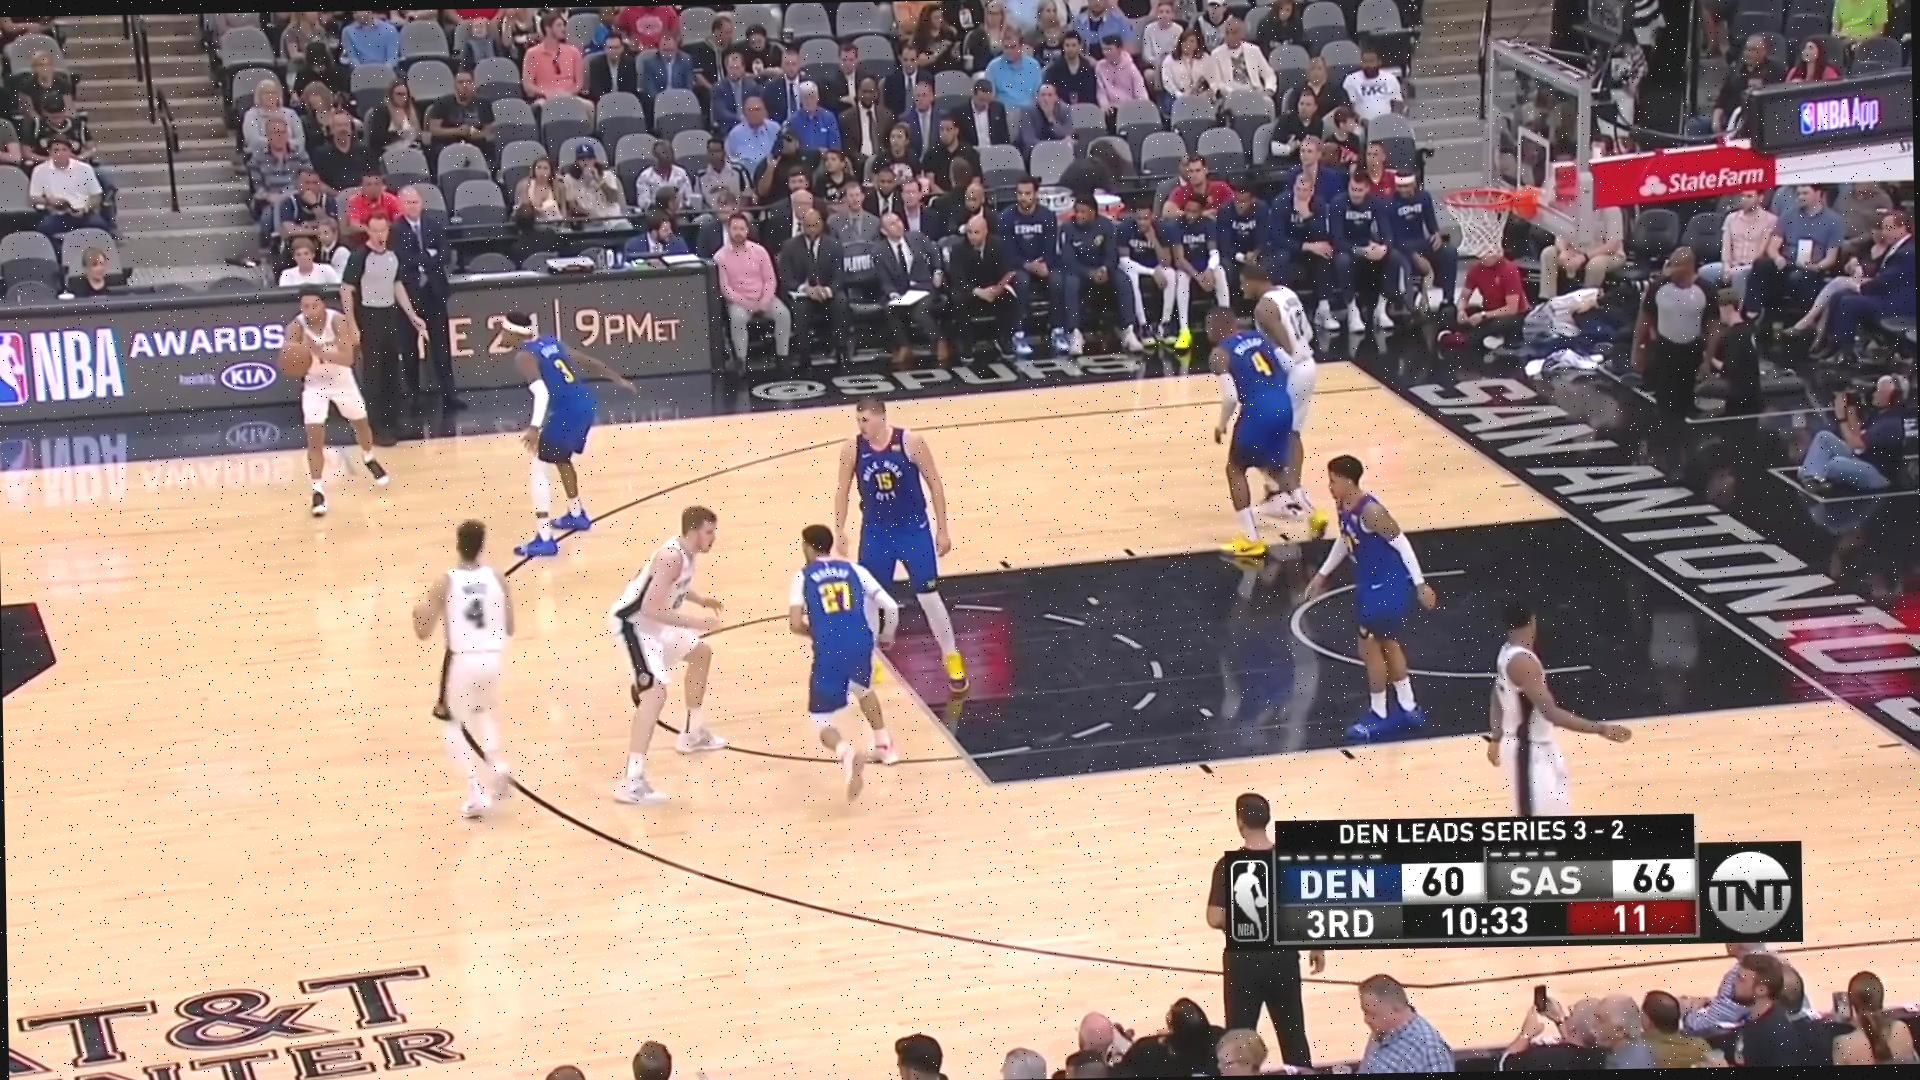no_foul: (580, 473, 934, 807)
